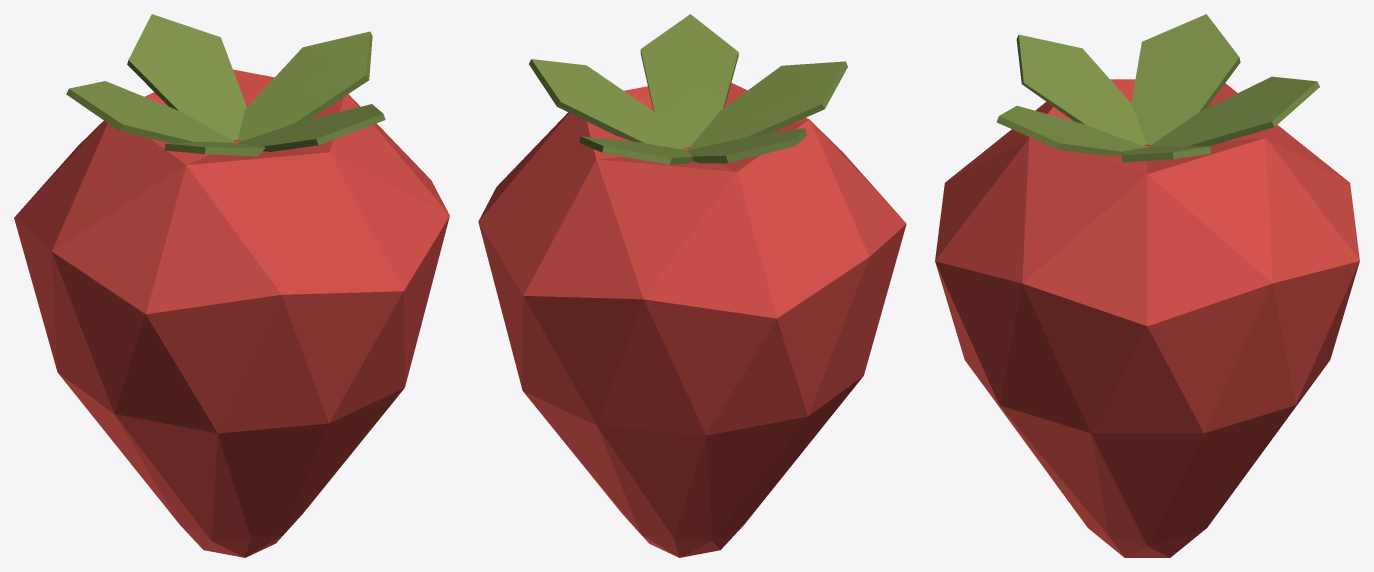
The model's file is Strawberry_01.fbx.
3 renders of one model, left to right at view 1: azimuth 30°, elevation 25°; view 2: azimuth 150°, elevation 25°; view 3: azimuth 270°, elevation 25°, orthographic.
Parts seen in each view (by area): view 1: Strawberry_01; view 2: Strawberry_01; view 3: Strawberry_01.
Boxes of the visible parts, <box> form: Strawberry_01: <box>14,14,449,557</box>; Strawberry_01: <box>478,14,906,557</box>; Strawberry_01: <box>935,14,1359,557</box>.
Bounding box in the file's own units: 4.48 × 5.38 × 4.36.
